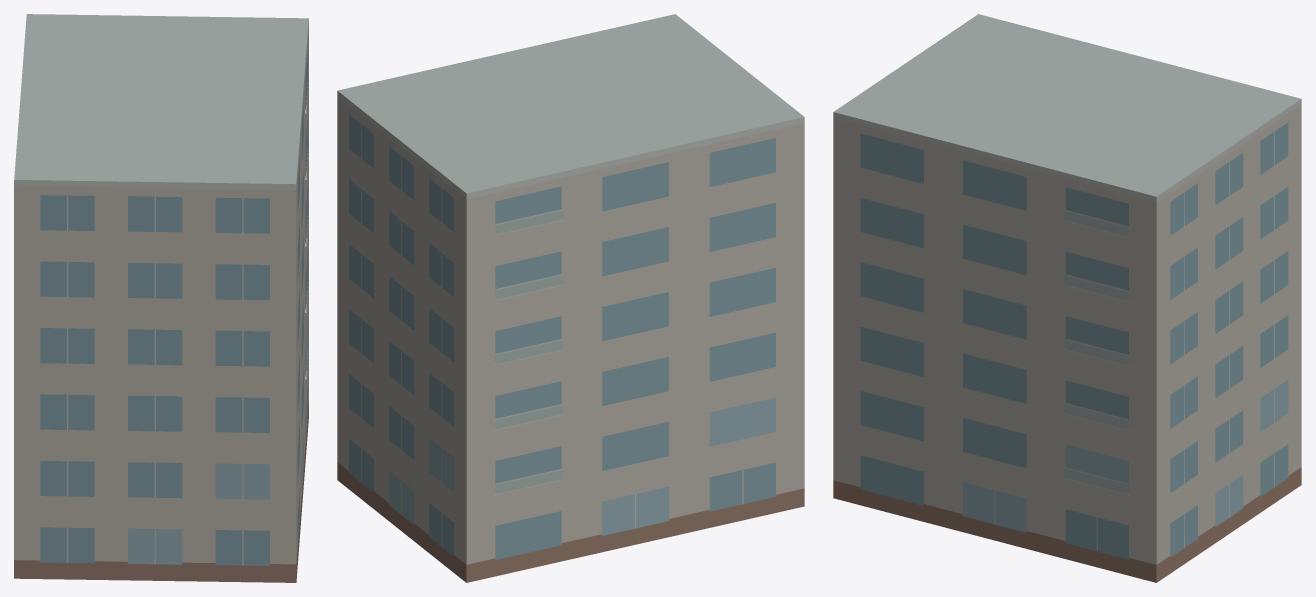
The model's file is survey-upis-32947850.glb.
3 views of the same model, side by side, from view 1: azimuth 30°, elevation 25°; view 2: azimuth 150°, elevation 25°; view 3: azimuth 270°, elevation 25° (orthographic). The views are drawn at different scales.
Parts seen in each view (by area): view 1: survey-upis-32947850.tmp; view 2: survey-upis-32947850.tmp; view 3: survey-upis-32947850.tmp.
Part boxes in pixels (x1,y1,x2,y2): survey-upis-32947850.tmp: [14, 14, 308, 582]; survey-upis-32947850.tmp: [337, 14, 804, 582]; survey-upis-32947850.tmp: [833, 14, 1301, 582].
Bounding box in the file's own units: 16.3 × 16.05 × 17.65.
